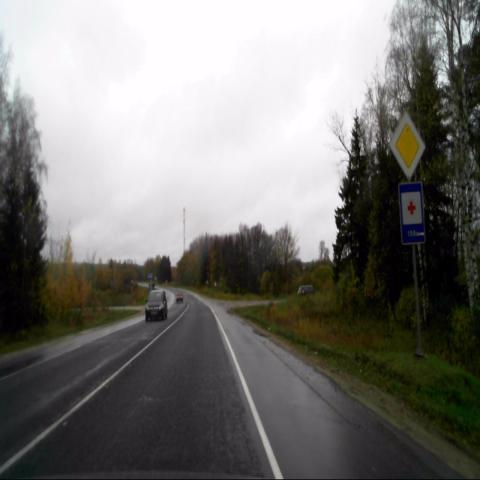7_1: (396, 184, 427, 249)
